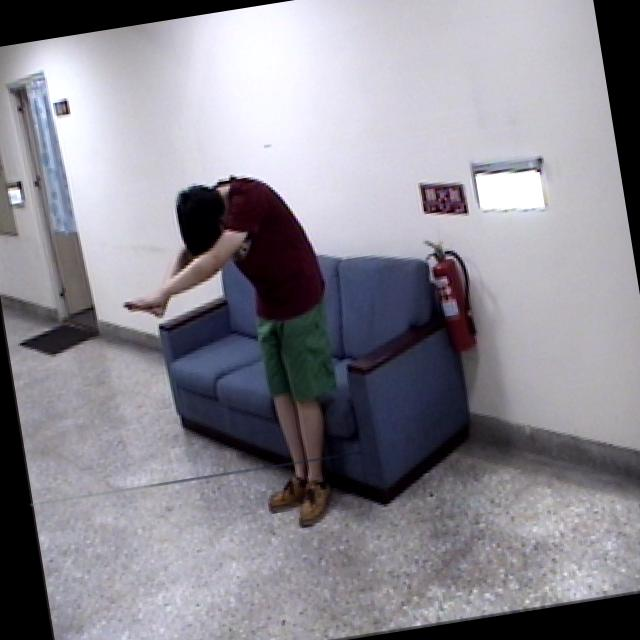bend: (104, 149, 367, 556)
